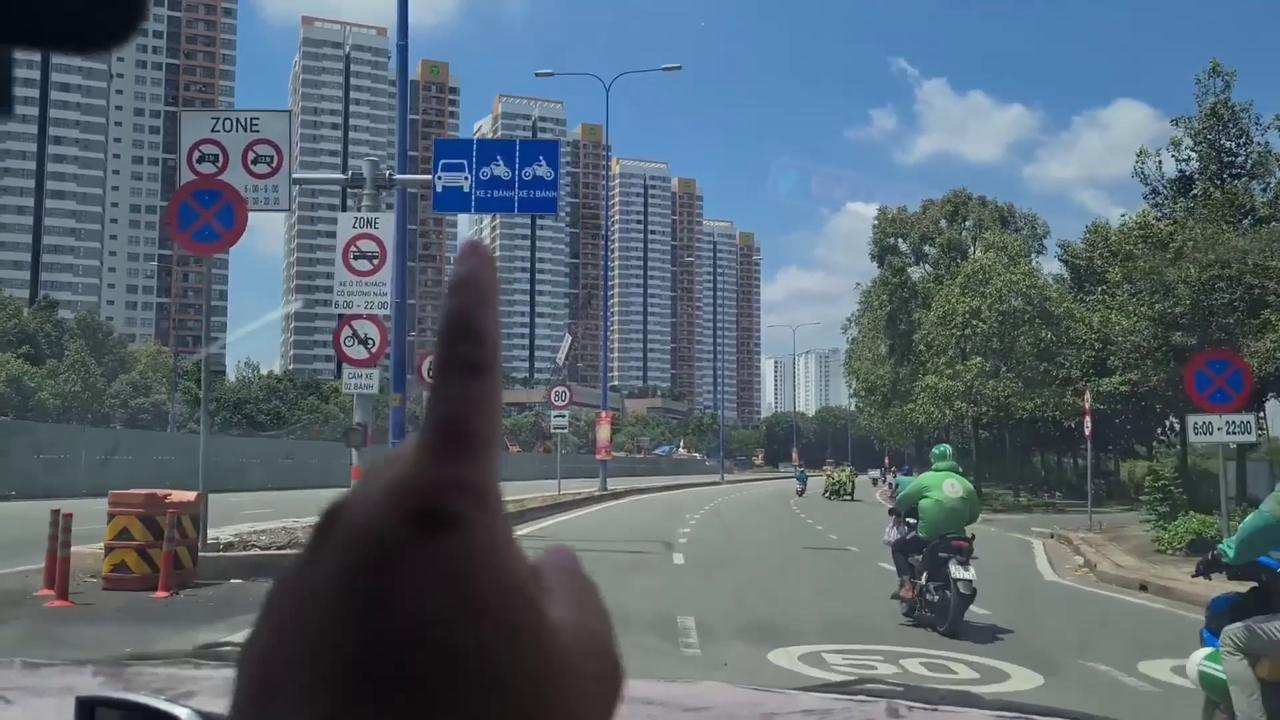Biển phụ: (1184, 411, 1258, 444), (340, 367, 381, 396), (549, 409, 570, 433)
Cấm cac phương tiện hoạt động trong khung giờ cố định: (173, 107, 293, 214), (332, 209, 393, 316)
Cấm dừng - Cấm đỗ: (168, 179, 248, 256), (1180, 345, 1252, 413)
Cấm xe máy: (332, 312, 388, 368)
Giới hạn tốc độ 80Km/h: (547, 383, 573, 409)
Làn đường cho từng xe: (430, 136, 560, 216)
